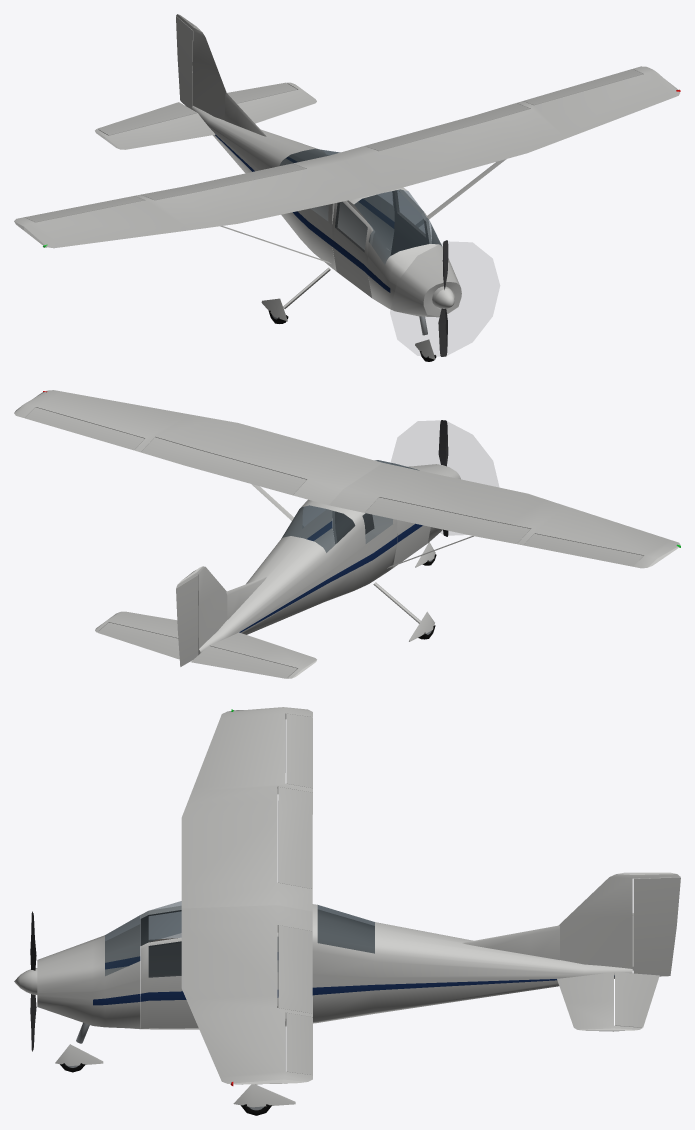
Rendered from cessna_lod3.glb.
3 views of the same model, one above another, from view 1: azimuth 30°, elevation 25°; view 2: azimuth 150°, elevation 25°; view 3: azimuth 270°, elevation 25° (orthographic). The views are drawn at different scales.
Visible parts, largest first — view 1: fuselage, wing_l, wing_r, prop_disc, door_r, elevator, door_l, flap_l, flap_r, rudder, gear, propeller (+2 smaller); view 2: fuselage, wing_l, wing_r, prop_disc, flap_l, elevator, flap_r, rudder, aileron_l, aileron_r, door_r, gear (+2 smaller); view 3: fuselage, wing_r, wing_l, rudder, door_l, flap_r, flap_l, door_r, elevator, gear, aileron_r, aileron_l (+1 smaller).
Part boxes in pixels (bbox=[...]): fuselage: bbox=[95, 14, 506, 317]; wing_l: bbox=[329, 66, 680, 192]; wing_r: bbox=[14, 156, 382, 248]; prop_disc: bbox=[390, 242, 499, 356]; door_r: bbox=[332, 201, 374, 297]; elevator: bbox=[97, 82, 296, 135]; door_l: bbox=[390, 189, 431, 255]; flap_l: bbox=[365, 103, 530, 150]; flap_r: bbox=[141, 163, 306, 200]; rudder: bbox=[176, 16, 193, 108]; gear: bbox=[261, 267, 436, 361]; propeller: bbox=[432, 240, 454, 356]; fuselage: bbox=[95, 460, 473, 678]; wing_l: bbox=[14, 390, 382, 505]; wing_r: bbox=[329, 463, 680, 568]; prop_disc: bbox=[391, 421, 498, 534]; flap_l: bbox=[141, 437, 306, 495]; elevator: bbox=[97, 622, 297, 678]; flap_r: bbox=[365, 497, 530, 543]; rudder: bbox=[176, 575, 198, 666]; aileron_l: bbox=[25, 407, 144, 450]; aileron_r: bbox=[523, 533, 643, 566]; door_r: bbox=[393, 520, 430, 567]; gear: bbox=[373, 542, 436, 641]; fuselage: bbox=[37, 872, 680, 1031]; wing_r: bbox=[181, 707, 312, 911]; wing_l: bbox=[181, 905, 312, 1085]; rudder: bbox=[633, 877, 680, 976]; door_l: bbox=[140, 937, 198, 1028]; flap_r: bbox=[278, 787, 312, 888]; flap_l: bbox=[278, 925, 312, 1013]; door_r: bbox=[140, 906, 181, 976]; elevator: bbox=[615, 915, 659, 1027]; gear: bbox=[55, 1022, 295, 1115]; aileron_r: bbox=[286, 713, 312, 788]; aileron_l: bbox=[286, 1012, 312, 1075].
Size of the model in its own units: 11.01 by 2.72 by 8.28.
